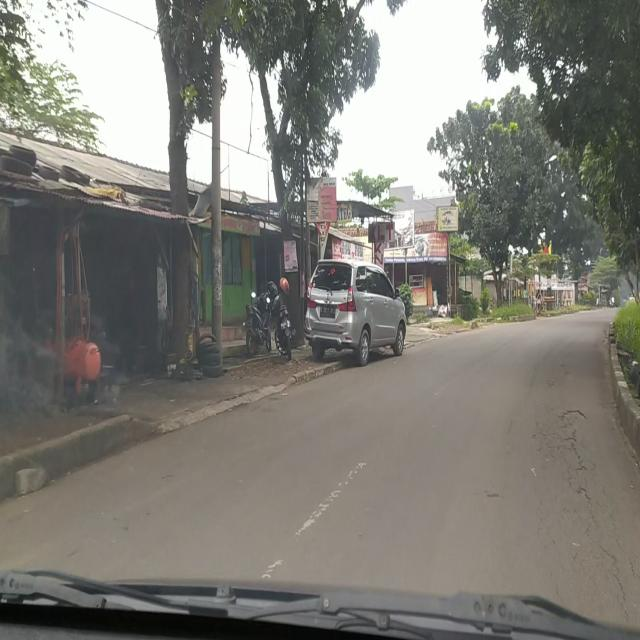Drain Hole: (536, 407, 628, 605)
